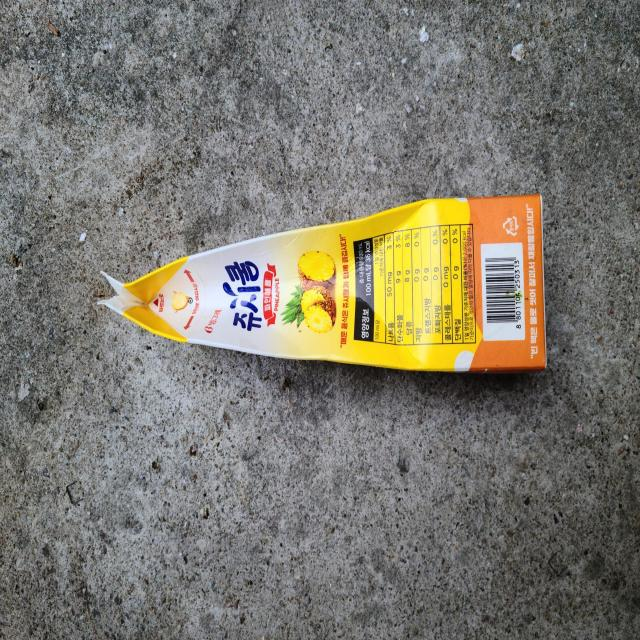paperpack: (98, 194, 547, 372)
